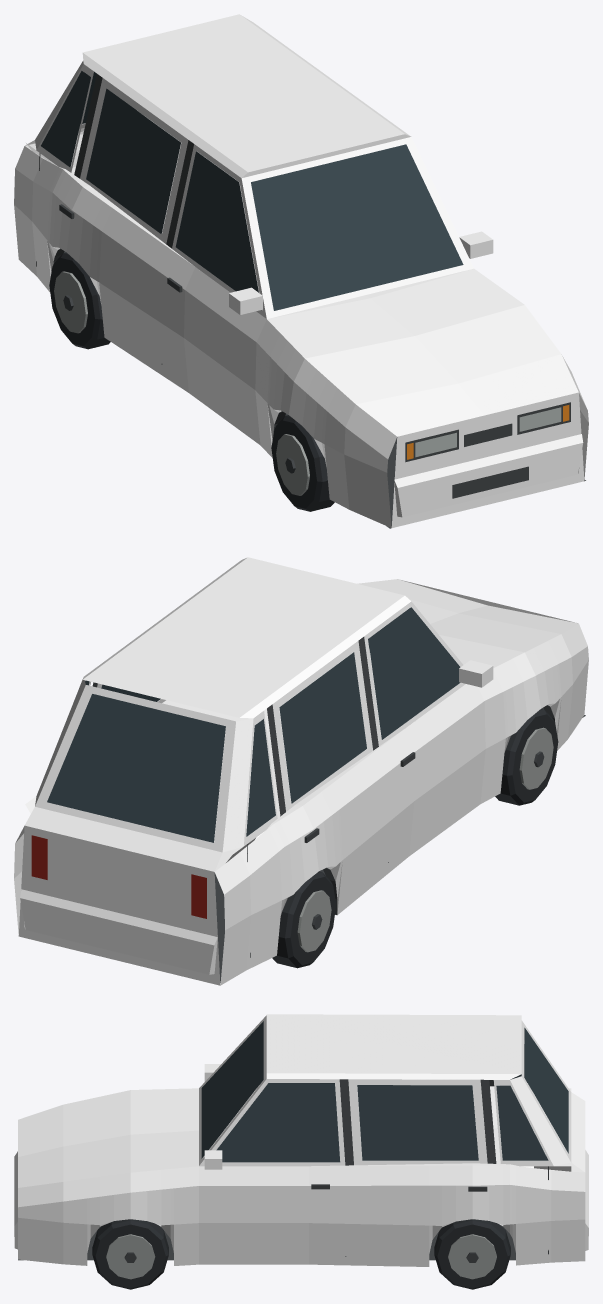
The model's file is kosame_mikage_s_98.glb.
3 views of the same model, one above another, from view 1: azimuth 30°, elevation 25°; view 2: azimuth 150°, elevation 25°; view 3: azimuth 270°, elevation 25° (orthographic). The views are drawn at different scales.
Parts seen in each view (by area): view 1: kosame_mikage_s_98; view 2: kosame_mikage_s_98; view 3: kosame_mikage_s_98.
Boxes of the visible parts, x1,y1,x2,y2 form: kosame_mikage_s_98: (14, 14, 588, 528); kosame_mikage_s_98: (14, 557, 588, 985); kosame_mikage_s_98: (14, 1014, 588, 1289).
Bounding box in the file's own units: 1.55 × 1.53 × 3.95.
8 materials, 1 textured.
